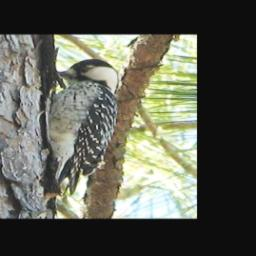Woodpecker: (44, 58, 119, 198)
